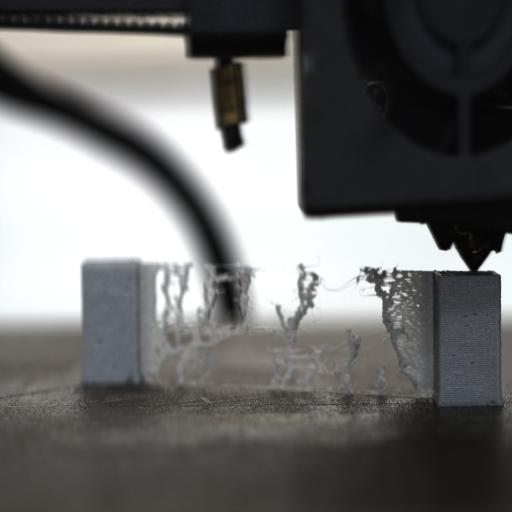stringing: (264, 260, 383, 396), (151, 260, 265, 386), (136, 260, 163, 385)
